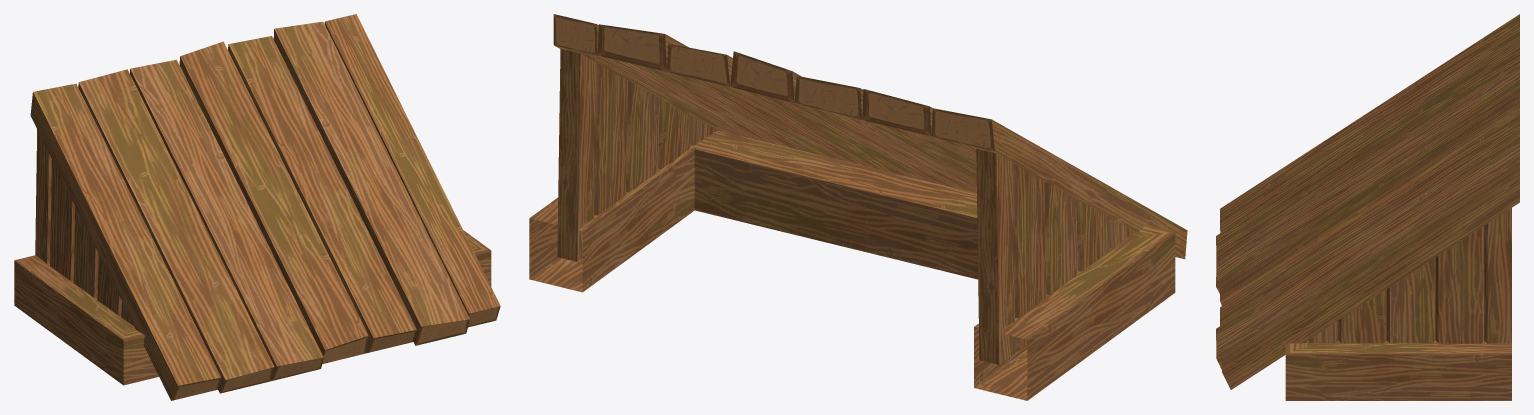
The model's file is med-toldo-madeira.gltf.
3 renders of one model, left to right at view 1: azimuth 30°, elevation 25°; view 2: azimuth 150°, elevation 25°; view 3: azimuth 270°, elevation 25°, orthographic. The views are drawn at different scales.
Visible parts, largest first — view 1: Roof_Wooden_2x1; view 2: Roof_Wooden_2x1; view 3: Roof_Wooden_2x1.
Boxes of the visible parts, x1,y1,x2,y2 form: Roof_Wooden_2x1: [14, 14, 500, 400]; Roof_Wooden_2x1: [529, 14, 1187, 400]; Roof_Wooden_2x1: [1216, 14, 1519, 400].
Size of the model in its own units: 1.13 by 0.6242 by 0.7801.
1 material, 1 textured.
